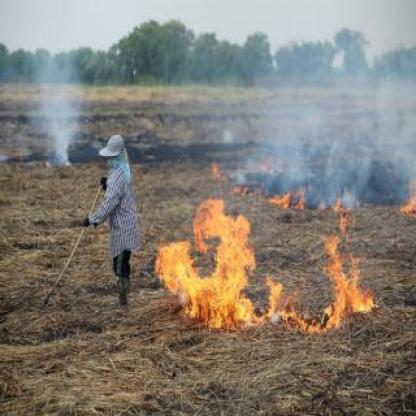fire: (148, 189, 376, 334), (206, 160, 310, 210)
